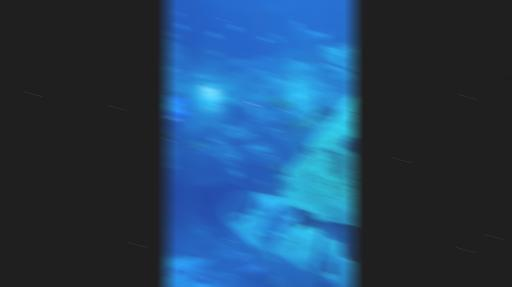Fish: (295, 210, 354, 260), (293, 21, 330, 42), (269, 94, 292, 110), (311, 106, 338, 117), (290, 120, 303, 137), (271, 164, 288, 175), (343, 137, 354, 152), (187, 141, 202, 149), (301, 142, 310, 155), (302, 117, 313, 127), (271, 33, 282, 43), (325, 261, 334, 273), (265, 128, 280, 133), (167, 31, 178, 37), (165, 132, 172, 140), (210, 32, 219, 38), (173, 11, 182, 16), (176, 25, 187, 29), (257, 180, 266, 184), (230, 26, 239, 30), (210, 51, 219, 55), (263, 36, 270, 41)
